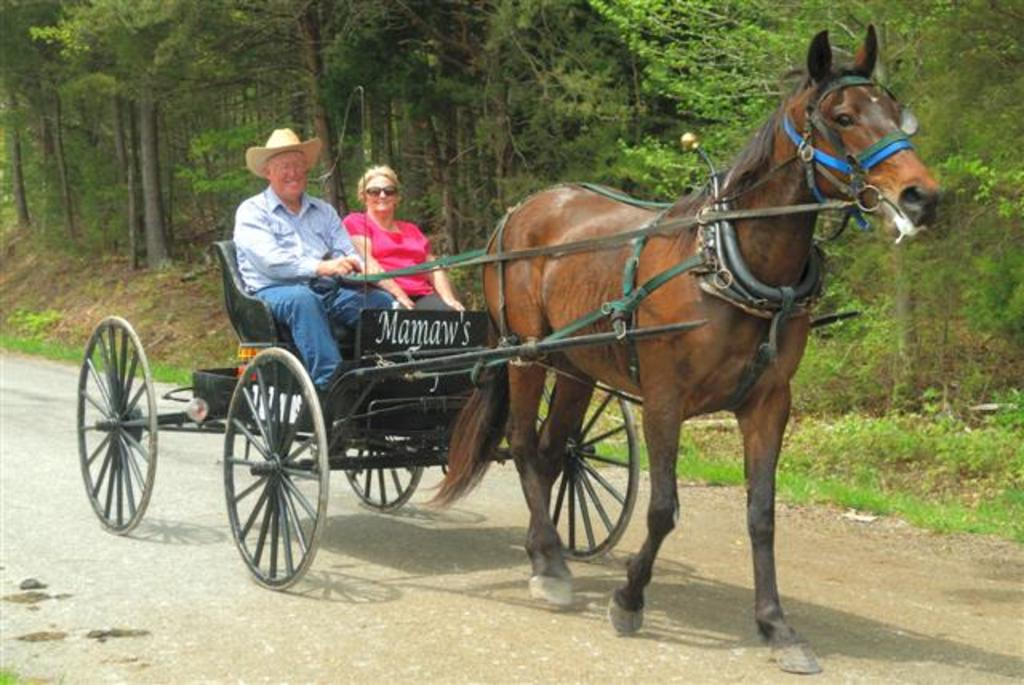horse: (417, 17, 943, 677)
